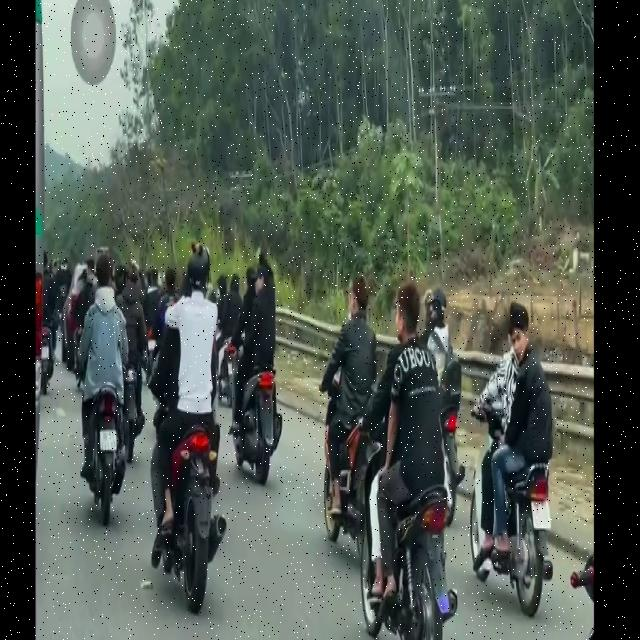helmet: (185, 237, 210, 315)
no_helmet: (510, 290, 535, 368), (394, 276, 421, 342), (346, 270, 371, 332)
